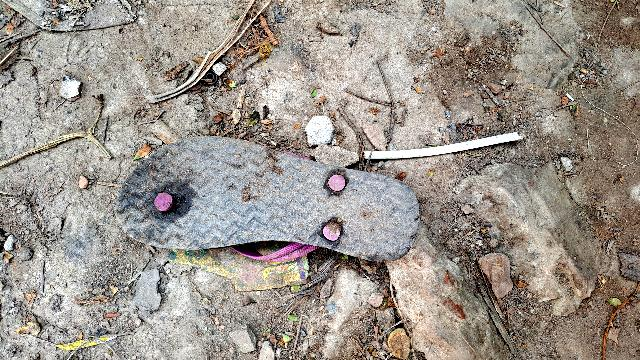sandal: (116, 128, 428, 307)
